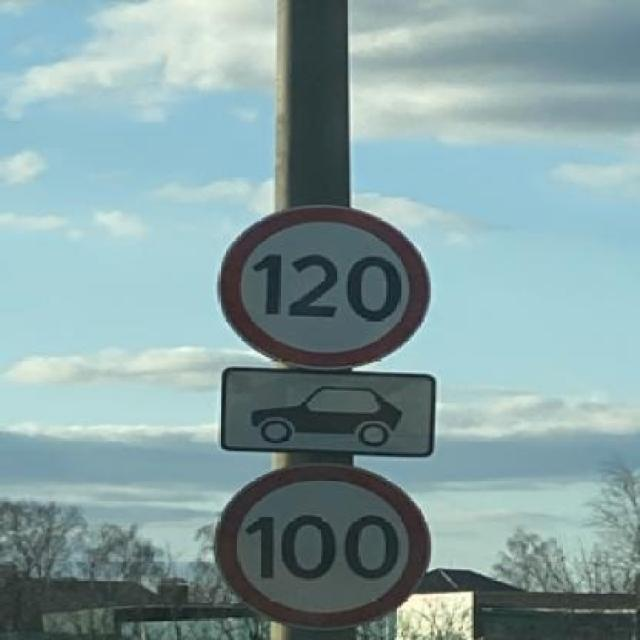forb_speed_over_100: (220, 468, 426, 628)
forb_speed_over_120: (219, 203, 430, 369)
